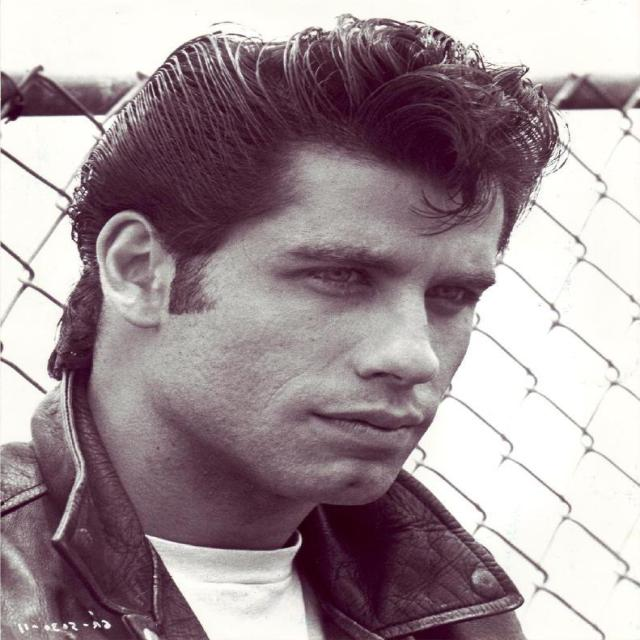no-earmuff: (93, 210, 167, 328)
